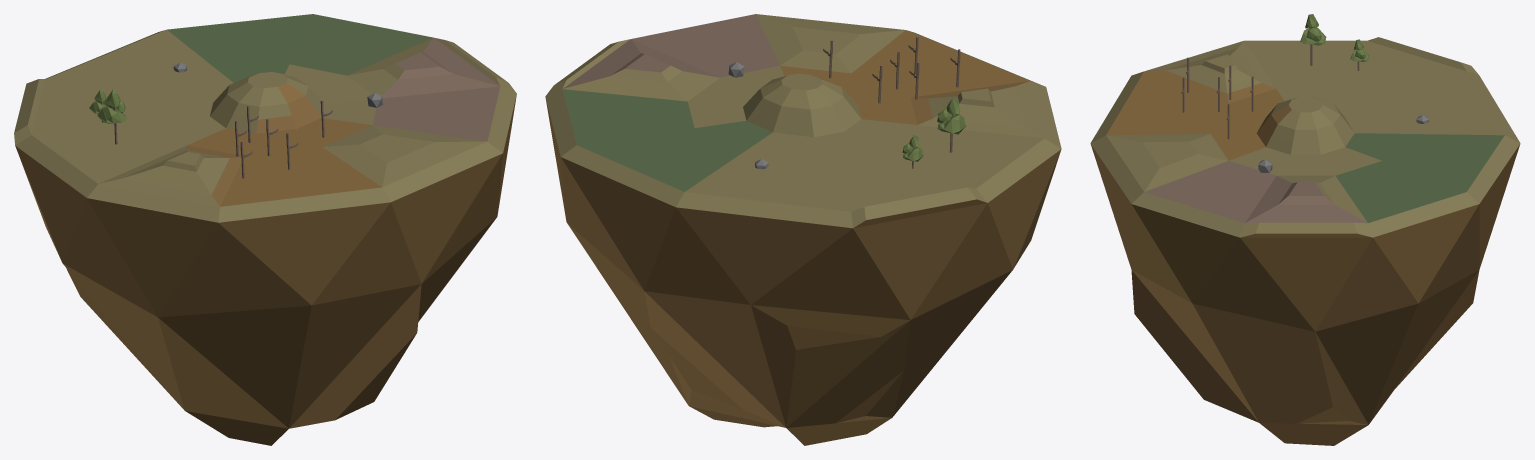
Rendered from desert.glb.
3 views of the same model, side by side, from view 1: azimuth 30°, elevation 25°; view 2: azimuth 150°, elevation 25°; view 3: azimuth 270°, elevation 25° (orthographic). The views are drawn at different scales.
Visible parts, largest first — view 1: planet, Tree Type4 01 Model.004; view 2: planet, Tree Type4 01 Model.004; view 3: planet, Tree Type4 01 Model.004.
Boxes of the visible parts, x1=… form: planet: x1=14, y1=14, x2=516, y2=445; Tree Type4 01 Model.004: x1=97, y1=90, x2=126, y2=123; planet: x1=545, y1=14, x2=1061, y2=445; Tree Type4 01 Model.004: x1=937, y1=97, x2=966, y2=134; planet: x1=1090, y1=37, x2=1520, y2=445; Tree Type4 01 Model.004: x1=1300, y1=14, x2=1326, y2=45.
Bounding box in the file's own units: 2.8 × 2.29 × 2.62.
